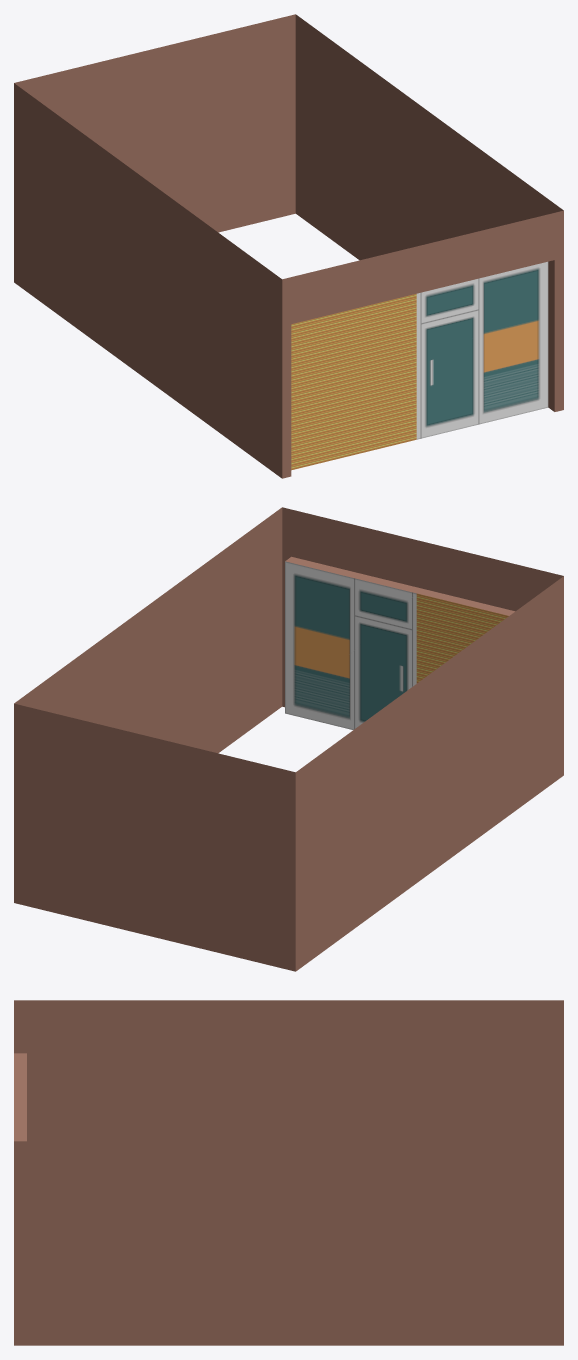
File: Town_Bld-sm_BaseA.FBX
3 renders of one model, top to bottom at view 1: azimuth 30°, elevation 25°; view 2: azimuth 150°, elevation 25°; view 3: azimuth 270°, elevation 25°, orthographic. The views are drawn at different scales.
Parts seen in each view (by area): view 1: Town_Bld-sm_BaseA; view 2: Town_Bld-sm_BaseA; view 3: Town_Bld-sm_BaseA.
Part boxes in pixels (x1,y1,x2,y2): Town_Bld-sm_BaseA: (14,14,563,478); Town_Bld-sm_BaseA: (14,507,563,971); Town_Bld-sm_BaseA: (14,1000,563,1345).
Bounding box in the file's own units: 301 × 204 × 497.
